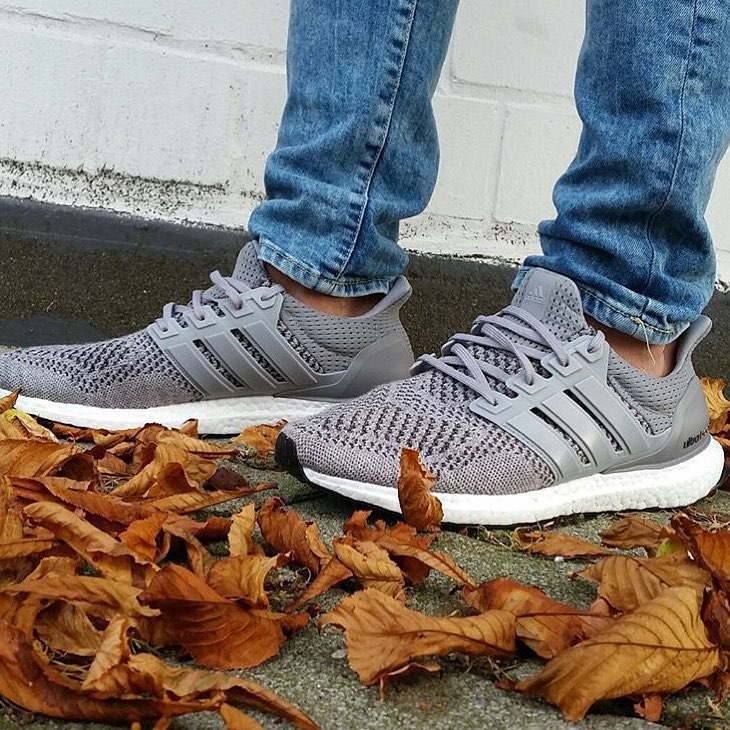sneaker: (262, 256, 724, 536), (2, 237, 456, 438)
